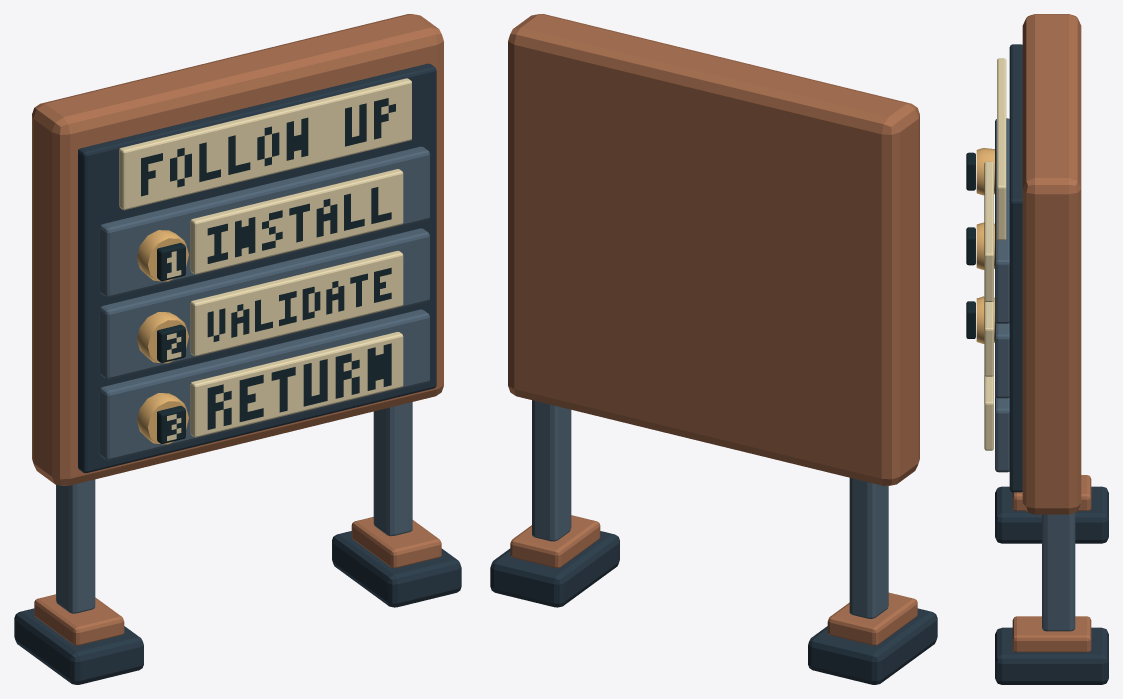
3 renders of one model, left to right at view 1: azimuth 30°, elevation 25°; view 2: azimuth 150°, elevation 25°; view 3: azimuth 270°, elevation 25°, orthographic. The views are drawn at different scales.
Visible parts, largest first — view 1: PR116 enamel and hardware; view 2: PR116 enamel and hardware; view 3: PR116 enamel and hardware.
Boxes of the visible parts, x1,y1,x2,y2 form: PR116 enamel and hardware: (14,14,461,684); PR116 enamel and hardware: (490,14,937,684); PR116 enamel and hardware: (966,14,1108,684).
Size of the model in its own units: 1.15 by 1.56 by 0.4.
